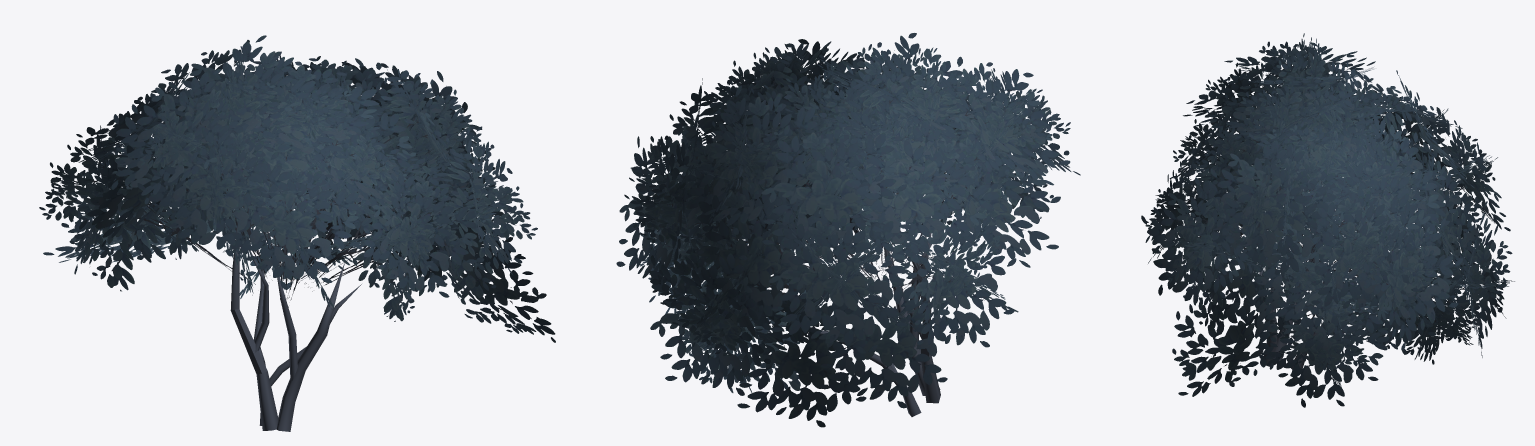
File: Main_lushan_01_tree_Bushes_02.fbx
The picture shows the model from 3 angles, left to right: view 1: azimuth 30°, elevation 25°; view 2: azimuth 150°, elevation 25°; view 3: azimuth 270°, elevation 25°; orthographic projection. The views are drawn at different scales.
Parts seen in each view (by area): view 1: Main_lushan_01_tree_Bushes_02; view 2: Main_lushan_01_tree_Bushes_02; view 3: Main_lushan_01_tree_Bushes_02.
Part boxes in pixels (x1,y1,x2,y2): Main_lushan_01_tree_Bushes_02: (39,35,555,431); Main_lushan_01_tree_Bushes_02: (616,33,1080,427); Main_lushan_01_tree_Bushes_02: (1141,33,1514,407).
Size of the model in its own units: 814 by 682 by 735.
